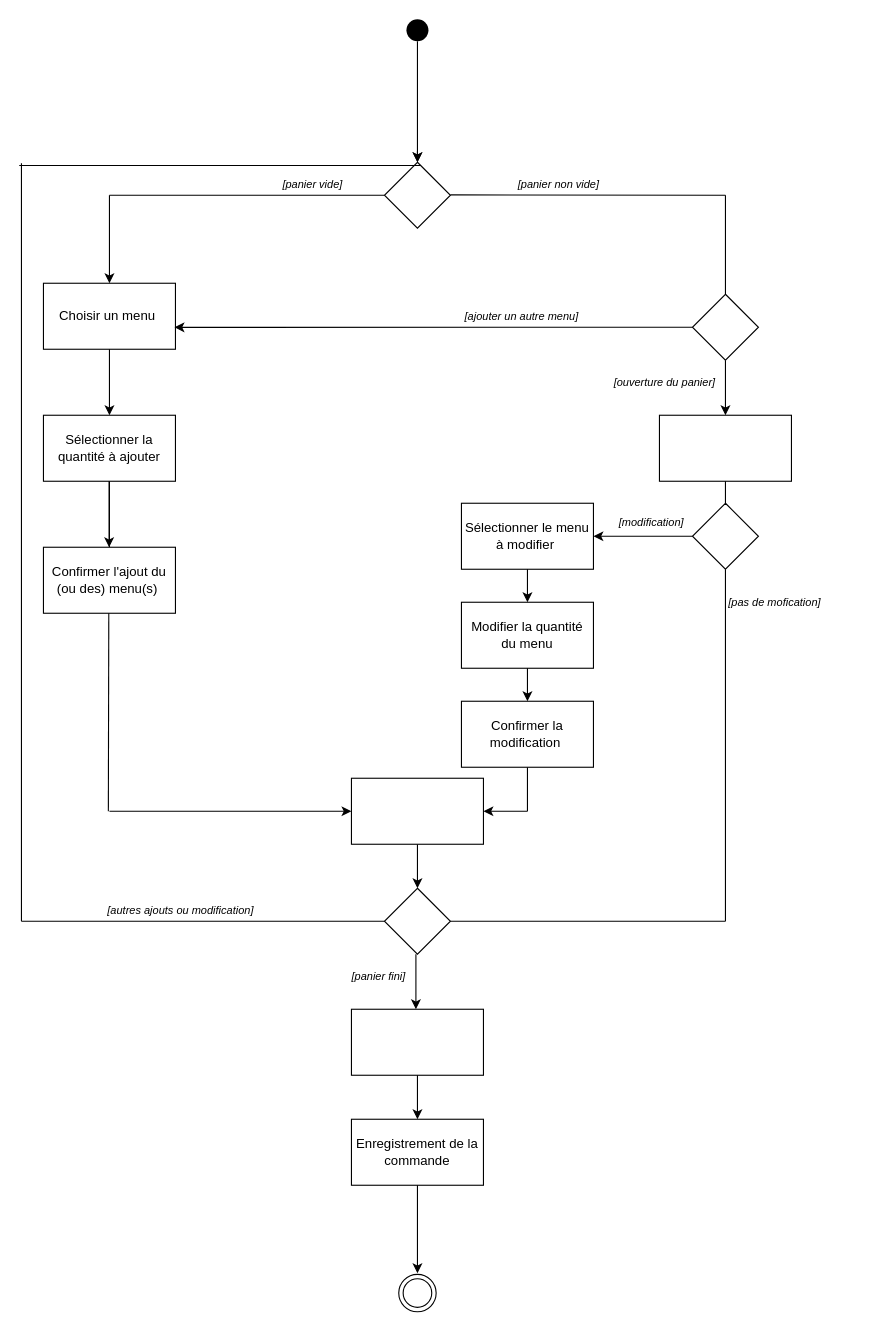
Image size: 877x1331. Some labels were removed from this diagram. Each missing label, with the centre of its shape:
Mise à jour du panier: the point at 416,810
Ouverture du panier: the point at 724,447
Valider la commande: the point at 416,1041
